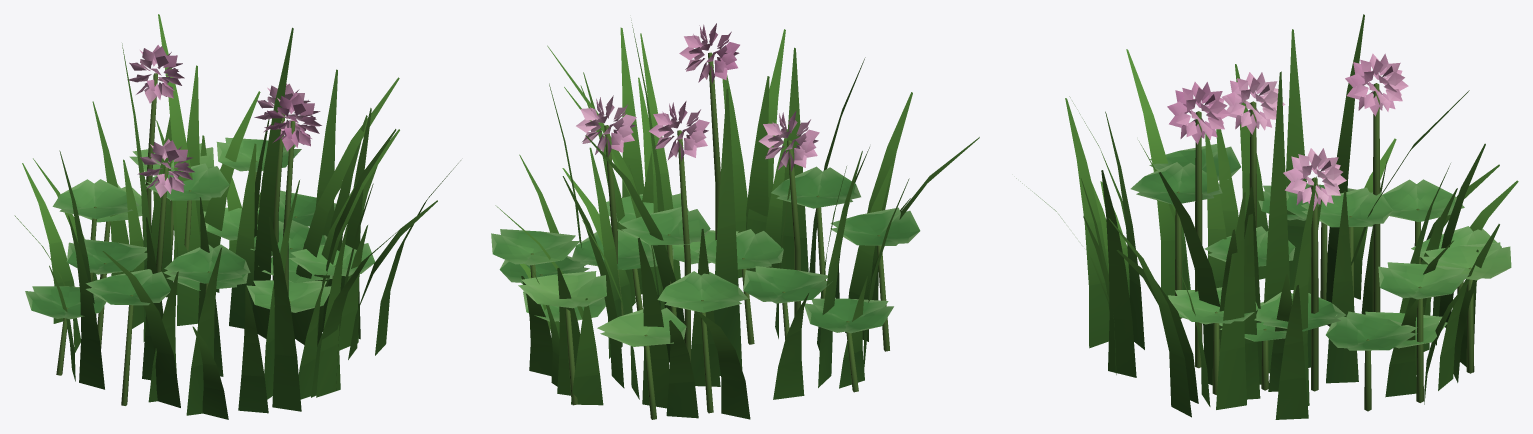
Rendered from PLN_Grass_Clover.fbx.
3 renders of one model, left to right at view 1: azimuth 30°, elevation 25°; view 2: azimuth 150°, elevation 25°; view 3: azimuth 270°, elevation 25°, orthographic. The views are drawn at different scales.
Visible parts, largest first — view 1: PLN_Grass_Clover; view 2: PLN_Grass_Clover; view 3: PLN_Grass_Clover.
Boxes of the visible parts, x1=… form: PLN_Grass_Clover: x1=14, y1=14, x2=460, y2=419; PLN_Grass_Clover: x1=491, y1=20, x2=979, y2=419; PLN_Grass_Clover: x1=1016, y1=14, x2=1518, y2=419.
Size of the model in its own units: 0.4668 by 0.3712 by 0.5372.
